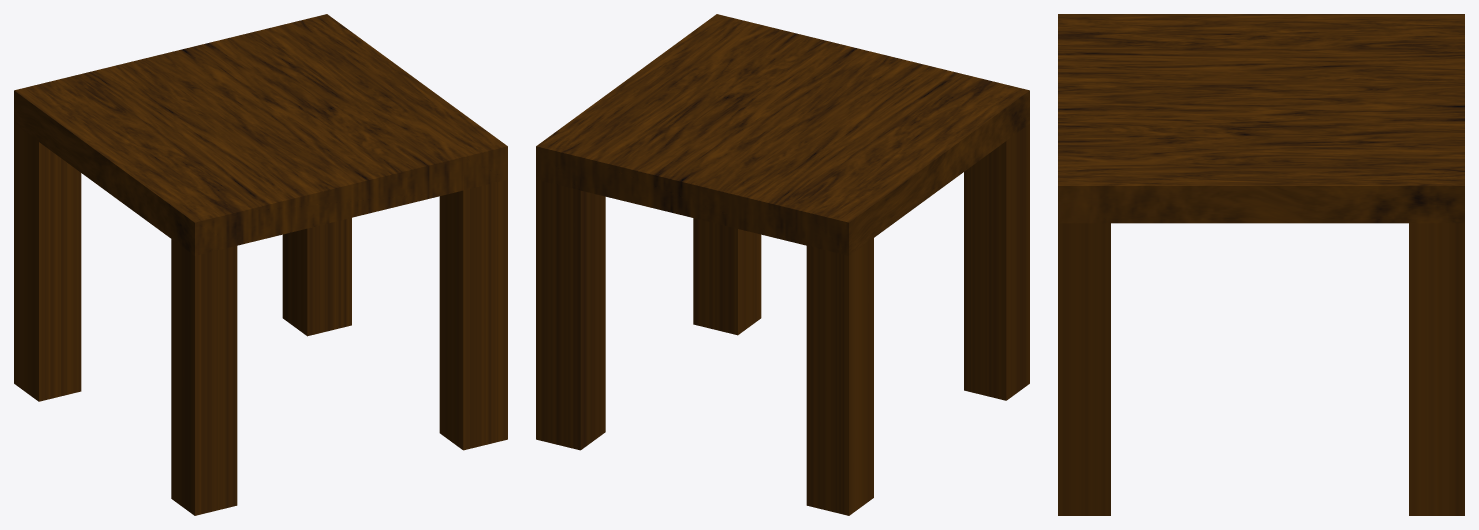
The model's file is TableModel.fbx.
3 views of the same model, side by side, from view 1: azimuth 30°, elevation 25°; view 2: azimuth 150°, elevation 25°; view 3: azimuth 270°, elevation 25° (orthographic). The views are drawn at different scales.
Parts seen in each view (by area): view 1: Cube; view 2: Cube; view 3: Cube.
Boxes of the visible parts, x1,y1,x2,y2 form: Cube: (14, 14, 507, 515); Cube: (536, 14, 1029, 515); Cube: (1058, 14, 1464, 515).
Size of the model in its own units: 20.09 by 17.98 by 20.09.
1 material, 1 textured.
